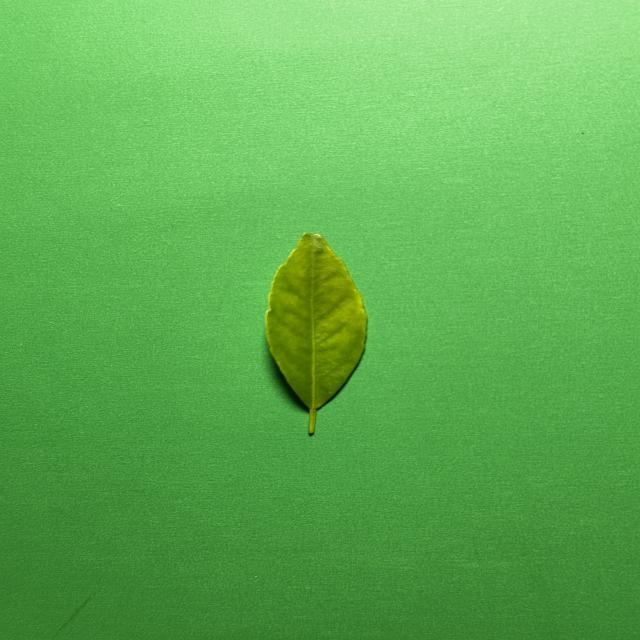greening: (266, 233, 367, 434)
